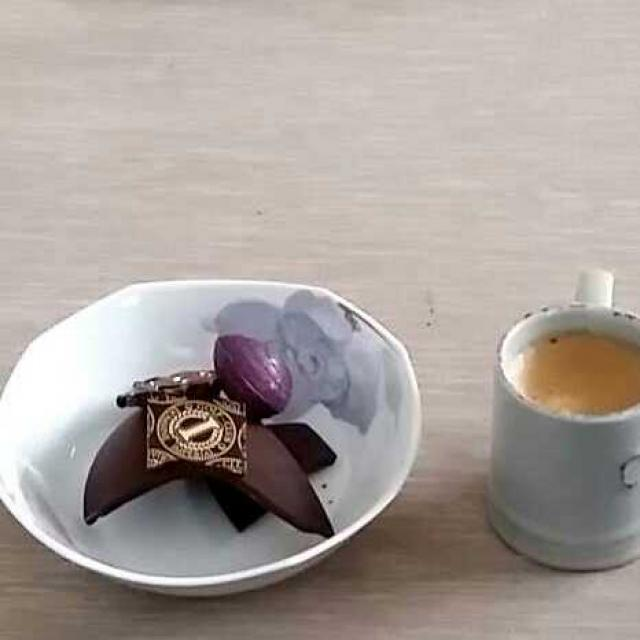chocolate: (84, 331, 339, 531)
coffee: (525, 328, 638, 415)
